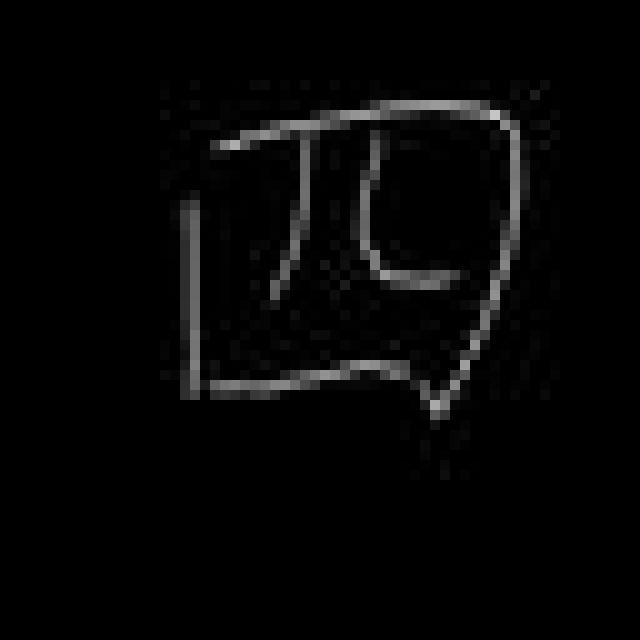4 -four-: (163, 85, 531, 428)
